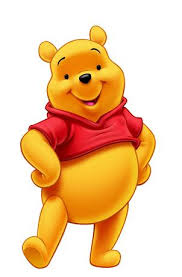Winnie: (18, 24, 149, 149)
